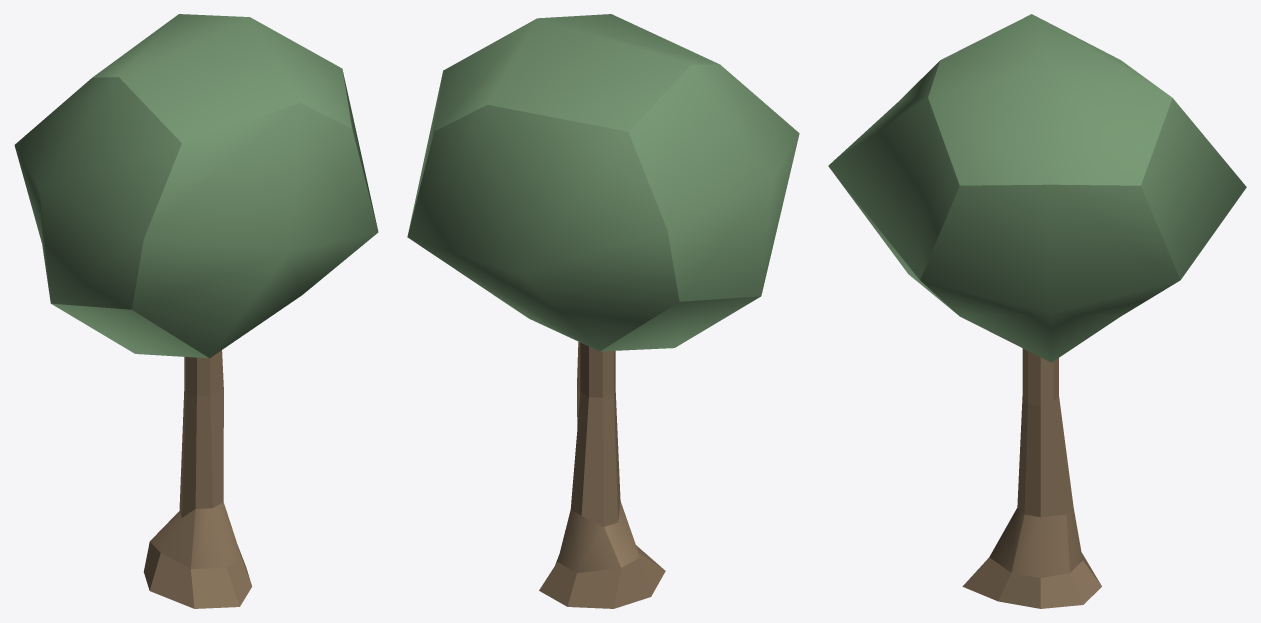
The model's file is tree01.fbx.
3 views of the same model, side by side, from view 1: azimuth 30°, elevation 25°; view 2: azimuth 150°, elevation 25°; view 3: azimuth 270°, elevation 25° (orthographic). The views are drawn at different scales.
Visible parts, largest first — view 1: treeLeaves01, treeTrunk01; view 2: treeLeaves01, treeTrunk01; view 3: treeLeaves01, treeTrunk01.
Boxes of the visible parts, x1,y1,x2,y2 form: treeLeaves01: [14, 14, 378, 358]; treeTrunk01: [143, 350, 252, 608]; treeLeaves01: [407, 14, 799, 351]; treeTrunk01: [539, 341, 665, 608]; treeLeaves01: [828, 14, 1246, 362]; treeTrunk01: [962, 348, 1101, 608].
Size of the model in its own units: 1.76 by 2.85 by 1.97.
